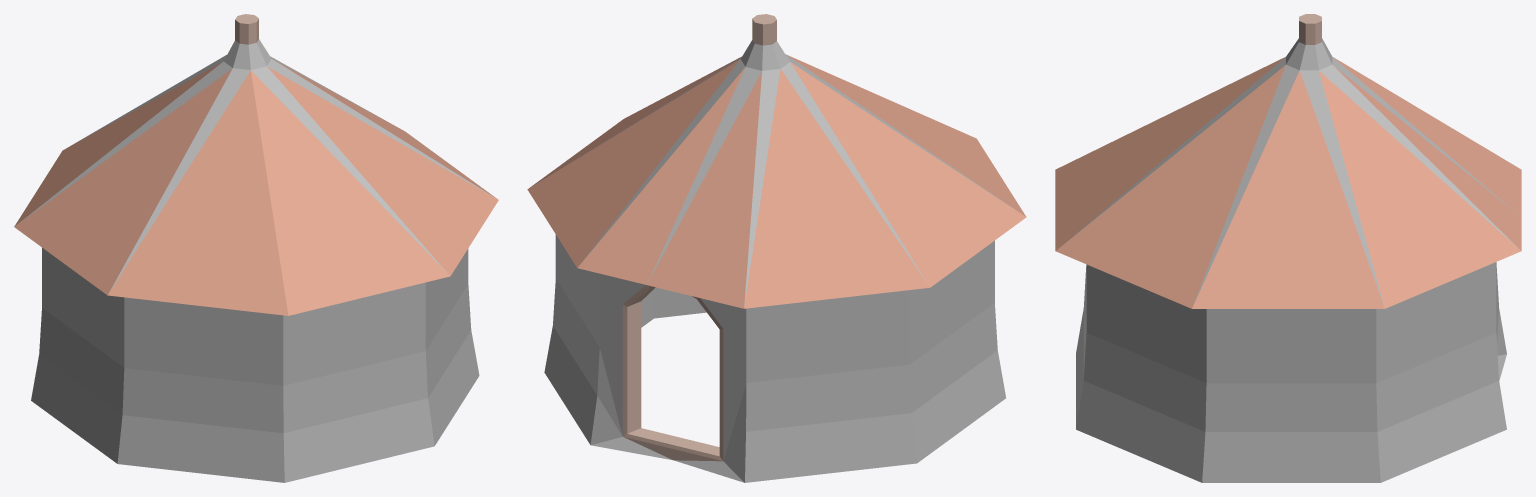
File: Hut.fbx
3 views of the same model, side by side, from view 1: azimuth 30°, elevation 25°; view 2: azimuth 150°, elevation 25°; view 3: azimuth 270°, elevation 25° (orthographic). The views are drawn at different scales.
Visible parts, largest first — view 1: HutRoof, HutMain; view 2: HutRoof, HutMain; view 3: HutRoof, HutMain.
Boxes of the visible parts, box(x1,y1,x2,y2) form: HutRoof: box(14, 14, 498, 315); HutMain: box(31, 248, 479, 482); HutRoof: box(527, 14, 1026, 308); HutMain: box(544, 234, 1005, 482); HutRoof: box(1055, 14, 1521, 308); HutMain: box(1076, 262, 1506, 482).
Size of the model in its own units: 5.1 by 5.1 by 4.52.
